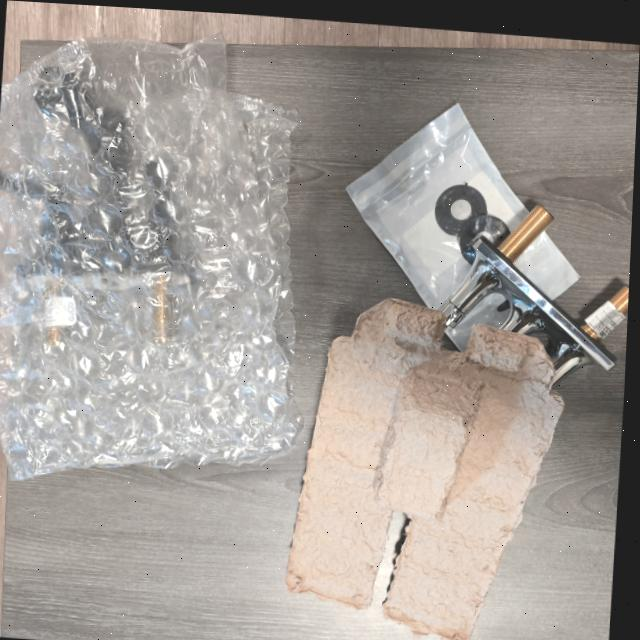10o: (441, 204, 629, 383)
13o: (346, 102, 527, 307), (517, 232, 577, 297)
9c: (0, 34, 298, 478)
